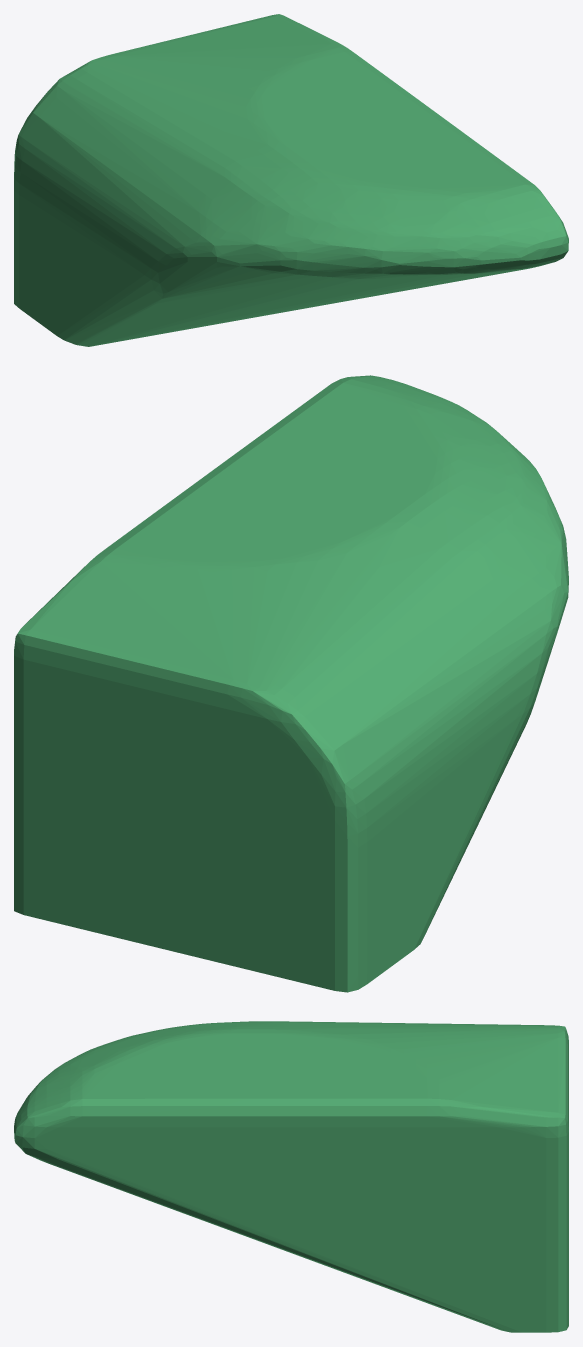
Rendered from left_lf_metacarpal_part_3.obj.
3 views of the same model, one above another, from view 1: azimuth 30°, elevation 25°; view 2: azimuth 150°, elevation 25°; view 3: azimuth 270°, elevation 25° (orthographic). The views are drawn at different scales.
Bounding box in the file's own units: 9.6 × 7.91 × 17.48.
